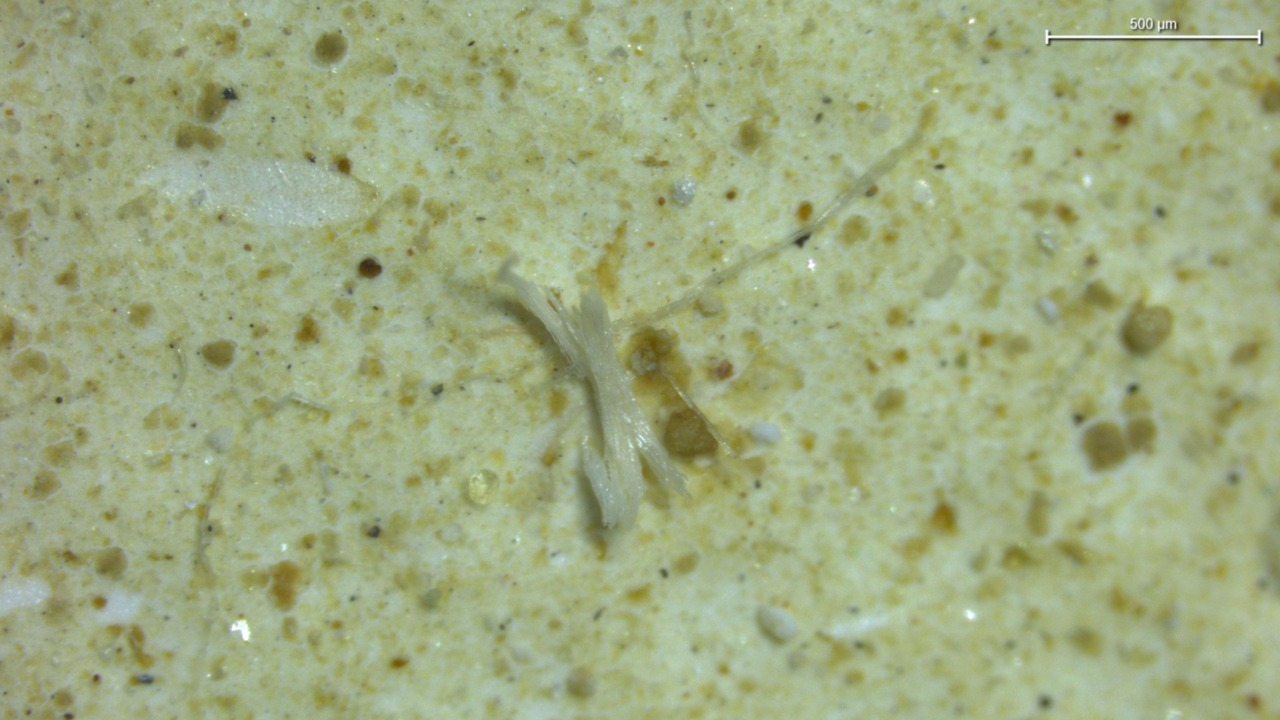microplastic_fragment: (500, 261, 685, 528), (750, 421, 781, 443), (673, 177, 696, 204)
